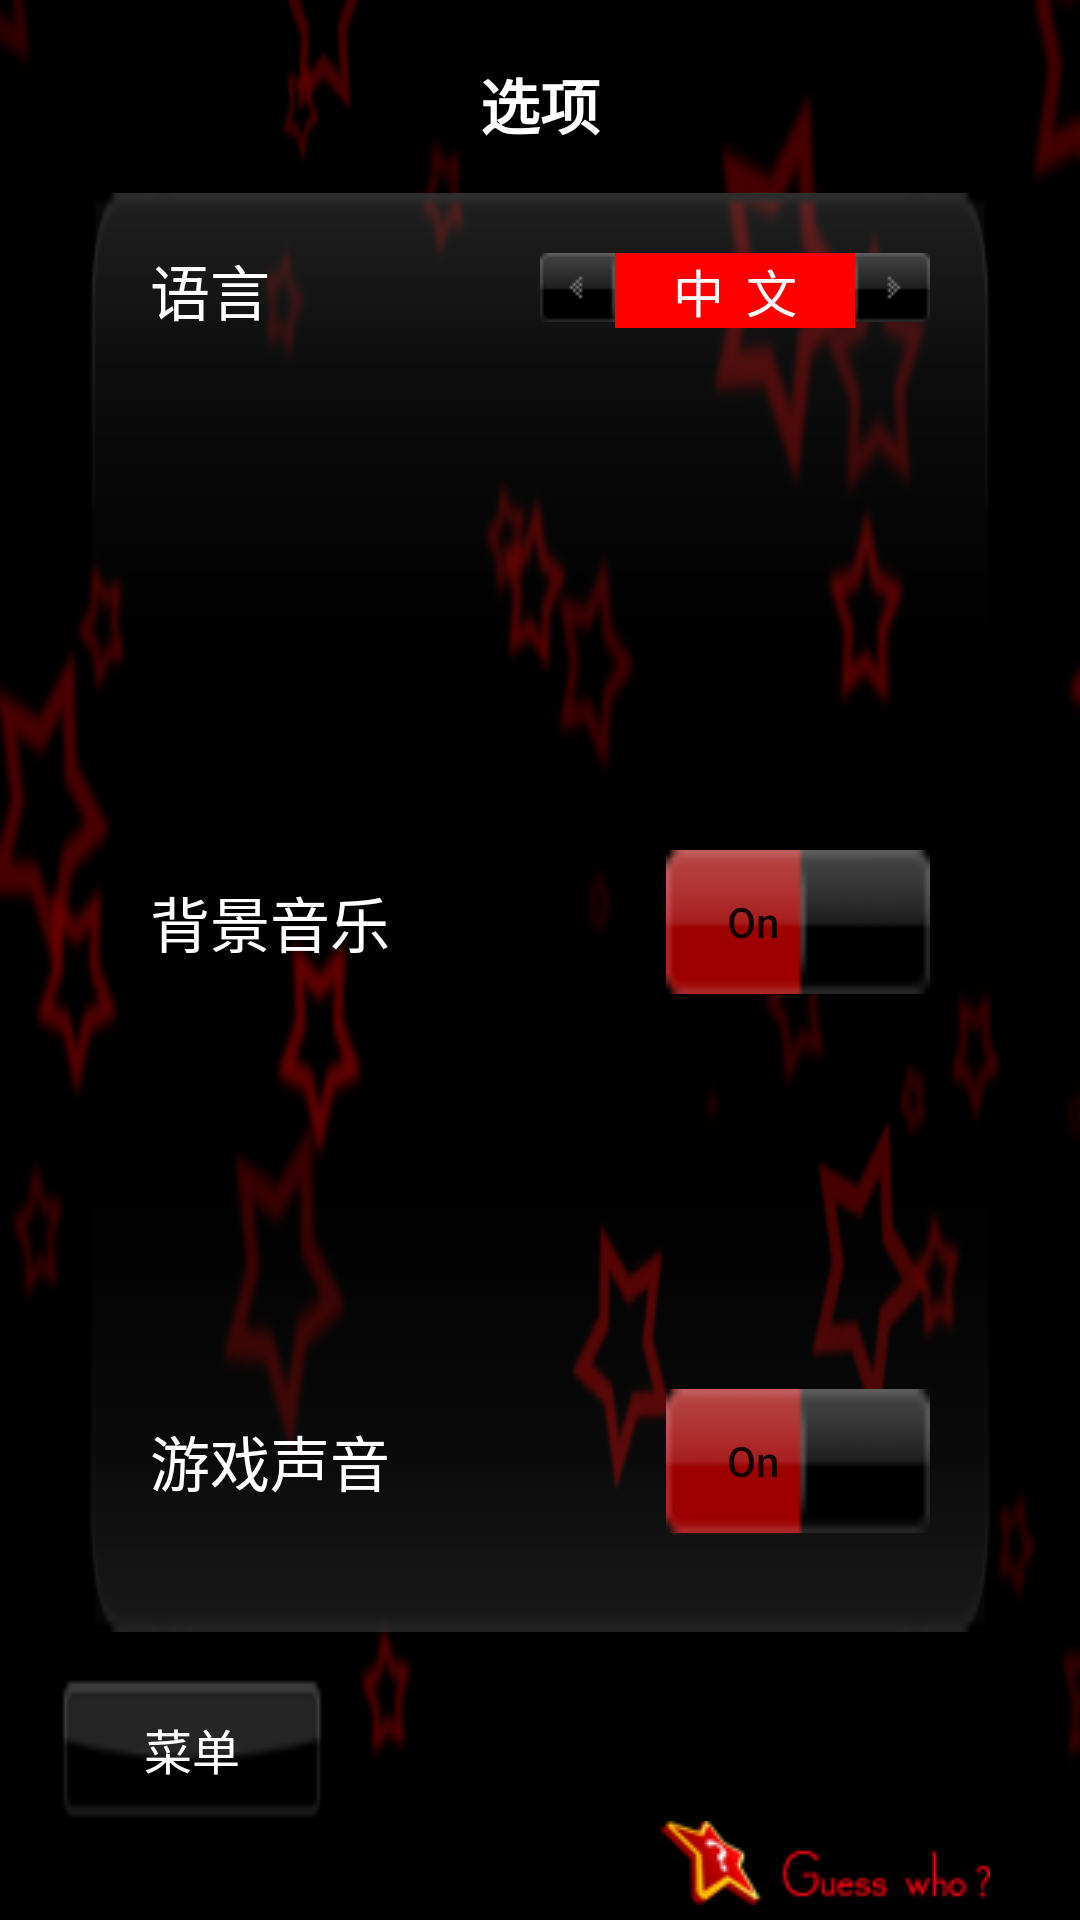

Where to tap for icons on this 1080*1920 app screen, as (x=x, y=y):
left arrow: (x=577, y=287)
right arrow: (x=892, y=287)
